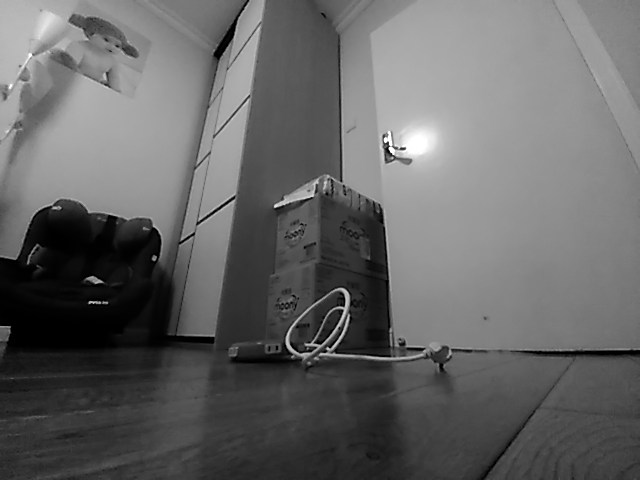wire: (283, 284, 455, 367)
